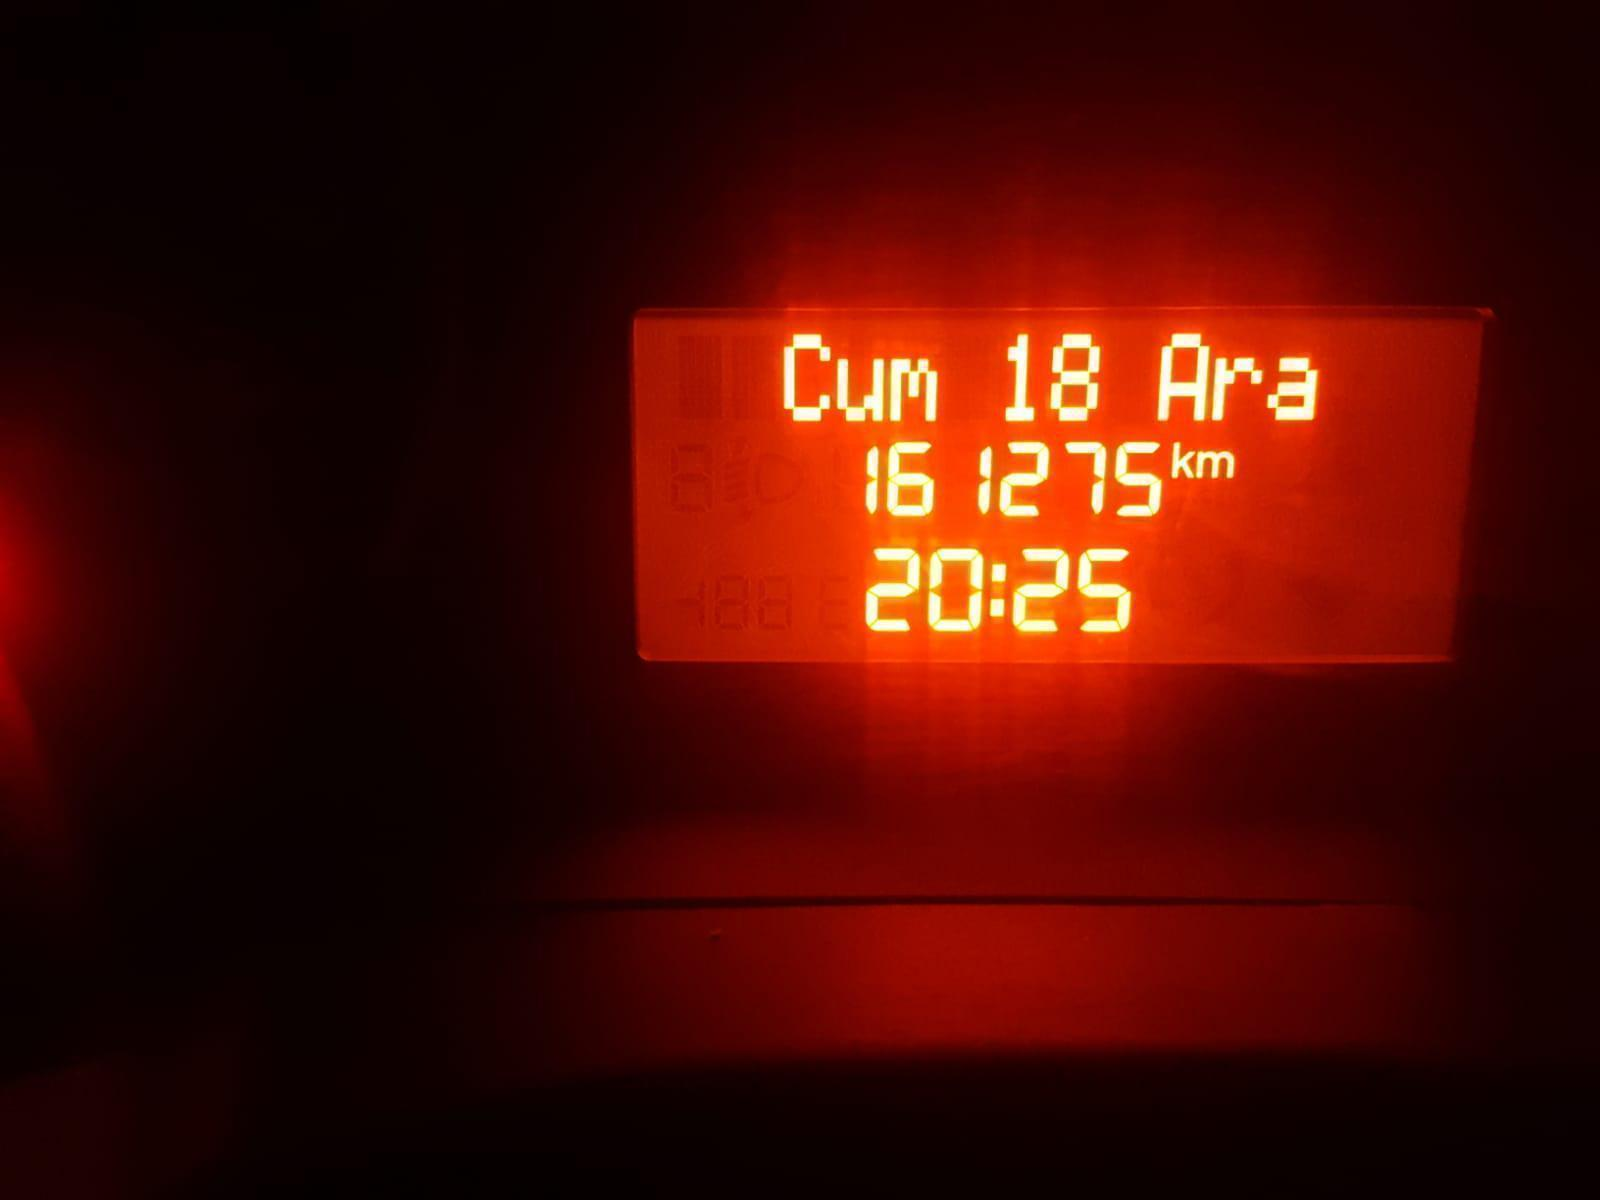0: (926, 545, 985, 637)
1: (997, 329, 1039, 425), (857, 442, 883, 517), (973, 442, 997, 518)
2: (862, 542, 921, 635), (1012, 543, 1071, 637), (999, 437, 1051, 521)
5: (1077, 543, 1135, 637), (1111, 436, 1163, 521)
6: (884, 437, 939, 521)
7: (1060, 435, 1110, 521)
8: (1048, 326, 1105, 426)
X: (779, 328, 834, 426), (1154, 330, 1208, 424), (1264, 353, 1322, 424), (1209, 352, 1264, 422), (886, 355, 941, 424), (834, 355, 887, 425), (986, 558, 1009, 621), (1194, 447, 1237, 480), (1168, 437, 1192, 482)
odometer: (616, 297, 1495, 677)
